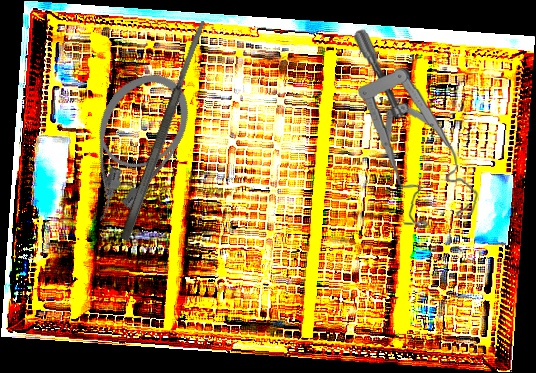Cannula: (54, 57, 206, 236)
Spatula Surgical: (118, 19, 210, 242)
Speculum: (351, 22, 481, 233)
